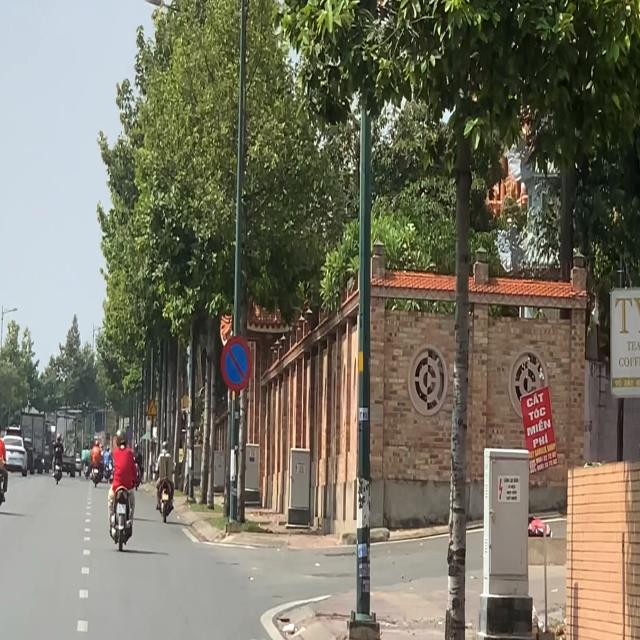Cam do: (220, 335, 252, 393)
Nguy hiem: (147, 398, 157, 416)
